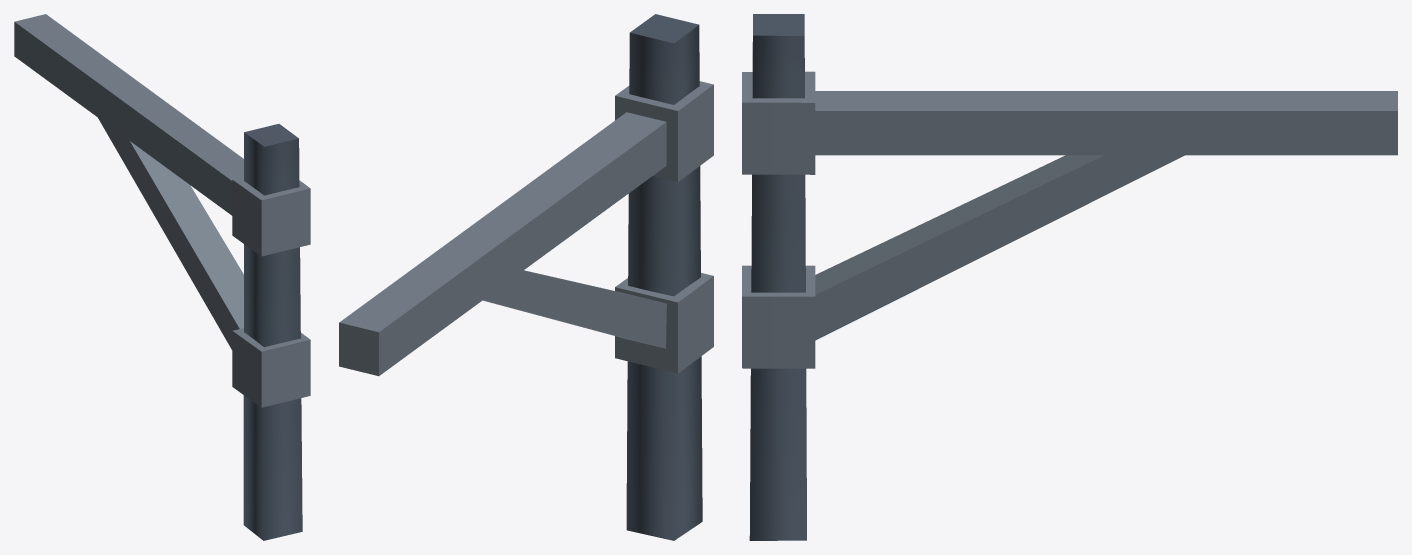
Rendered from SignHolder_6_A.fbx.
3 views of the same model, side by side, from view 1: azimuth 30°, elevation 25°; view 2: azimuth 150°, elevation 25°; view 3: azimuth 270°, elevation 25° (orthographic). The views are drawn at different scales.
Parts seen in each view (by area): view 1: SignHolder_6_A; view 2: SignHolder_6_A; view 3: SignHolder_6_A.
Part boxes in pixels (box(x1,y1,x2,y2)): SignHolder_6_A: box(14, 14, 310, 540); SignHolder_6_A: box(339, 14, 713, 540); SignHolder_6_A: box(742, 14, 1397, 540).
Bounding box in the file's own units: 7.8 × 58.7 × 69.26.
